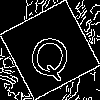Q: (25, 25, 77, 83)
